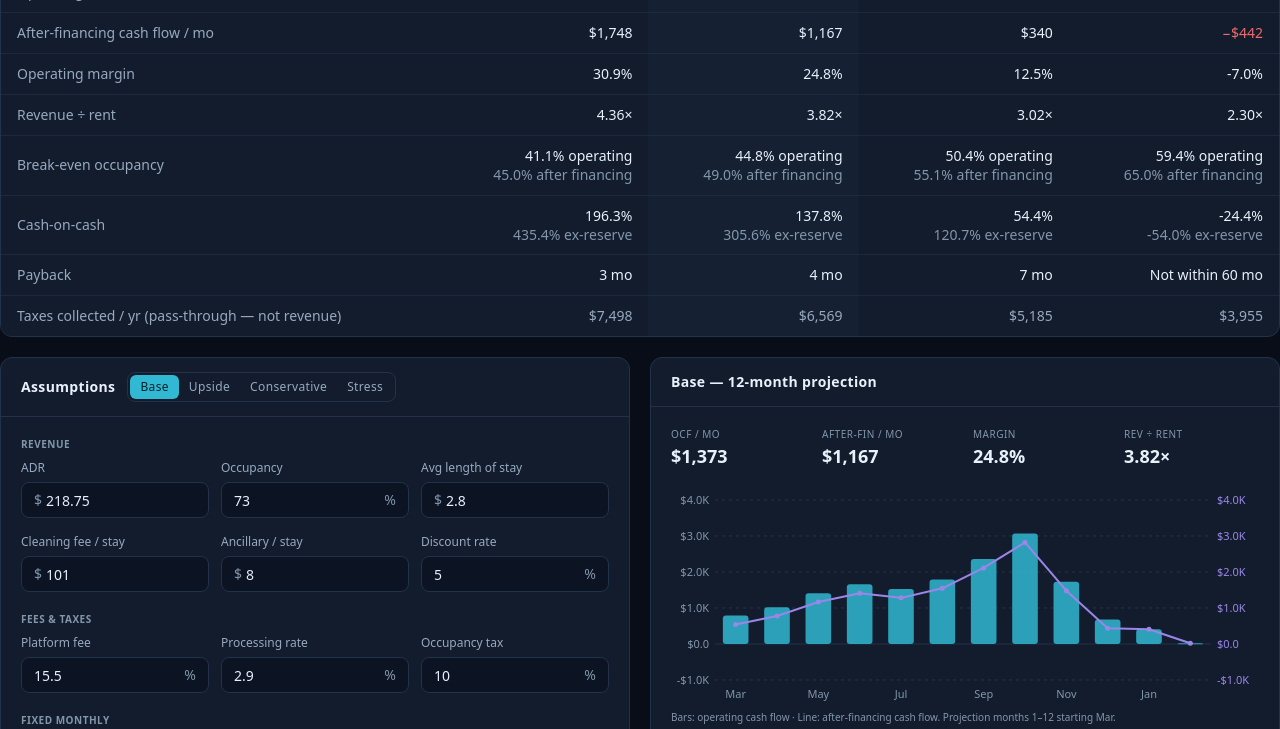
Test case: Property Intelligence — compliance › conservative occupancy of zero flips the calculated gate and blocks the deal
(page scrolled)
Step 1. Click the radio button labelled "Conservative" → (289, 387), box x1=240 y1=375 x2=337 y2=399
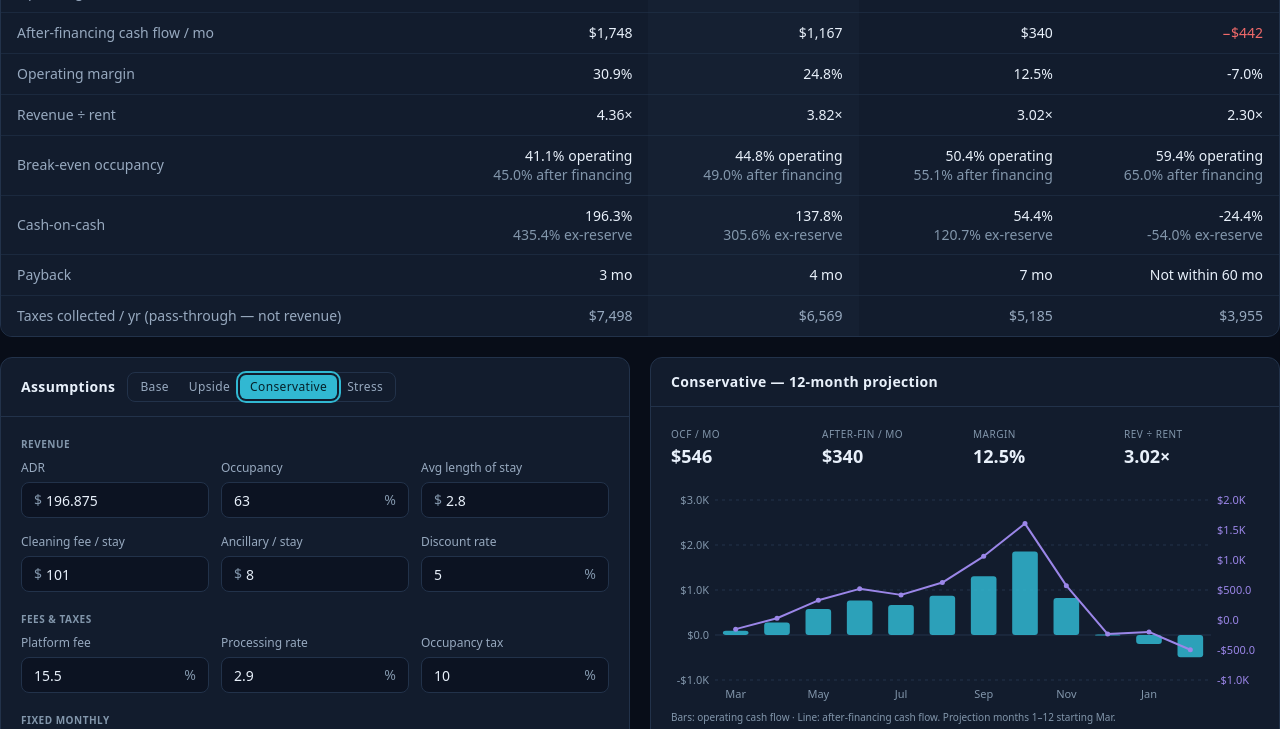
Step 2. Replace the text in the number field labelled "Occupancy" with "0" → (307, 500), box x1=234 y1=483 x2=380 y2=517
(page scrolled)
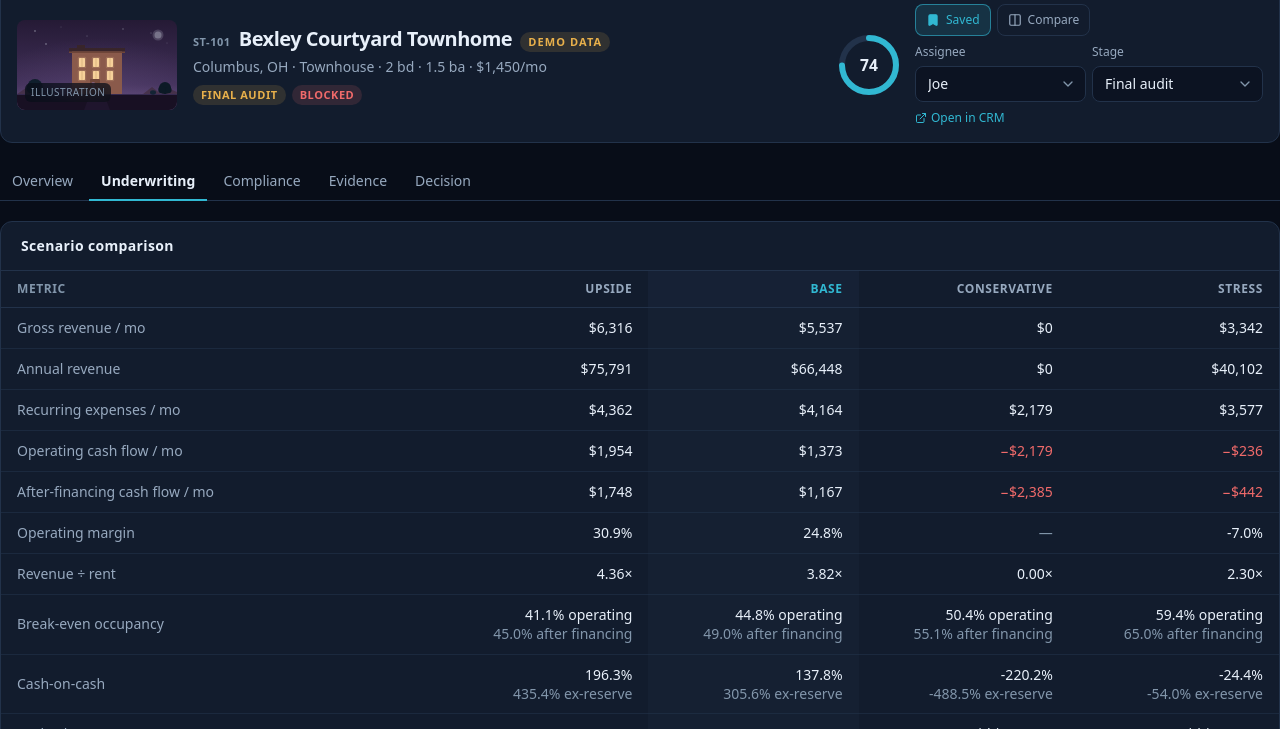
Step 3. Click the tab "Compliance" → (262, 182), box x1=211 y1=163 x2=313 y2=201
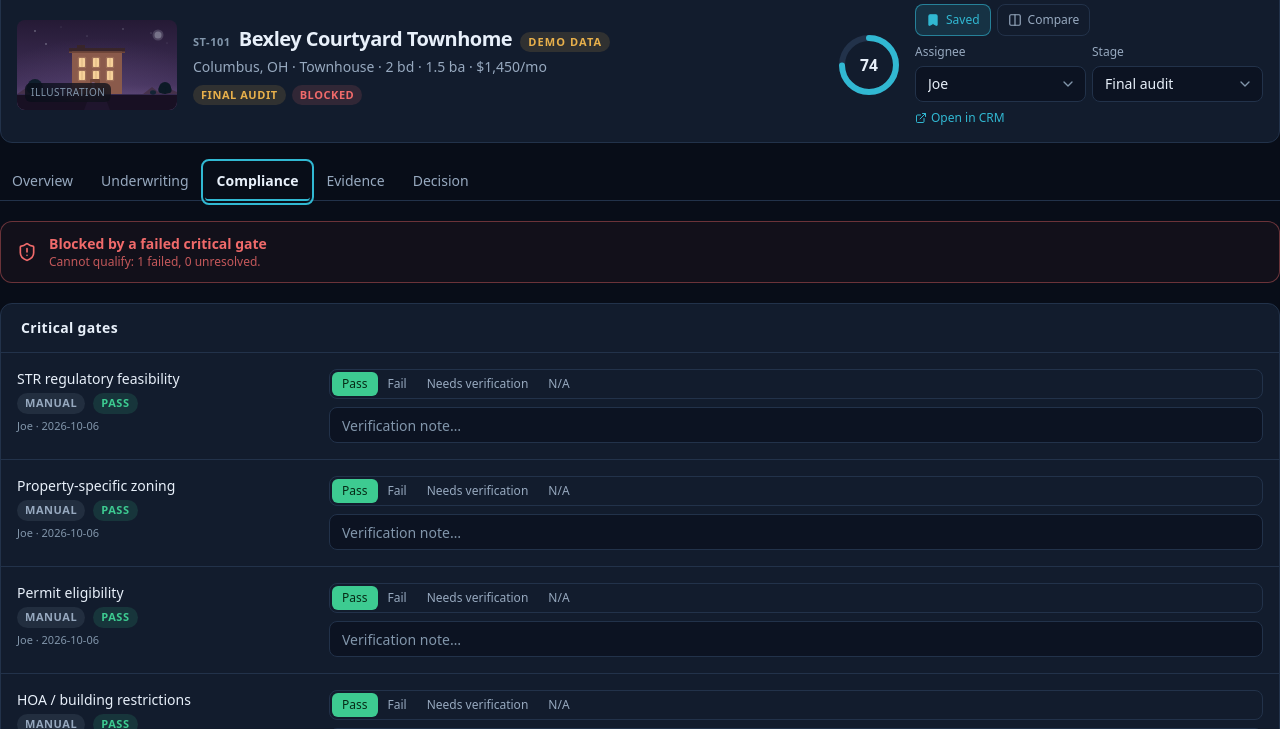
Check: the text "Blocked by a failed critical gate" is shown, box x1=49 y1=234 x2=267 y2=254
